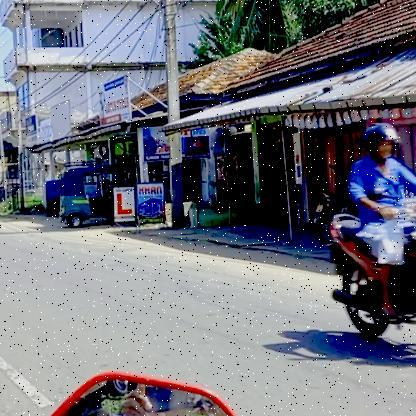motorcycle: (322, 197, 416, 374)
